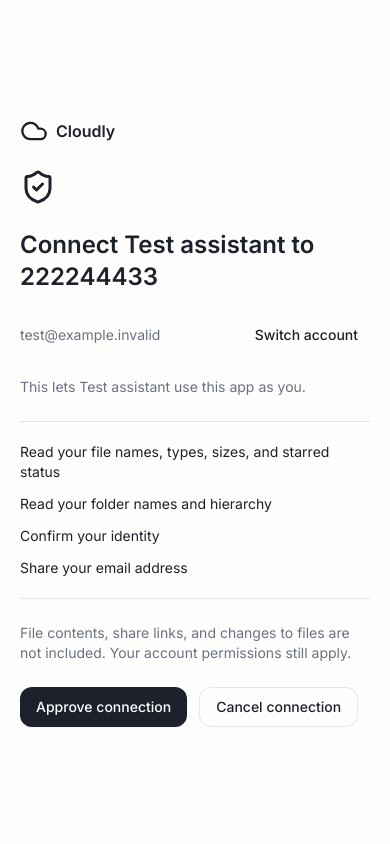
Scenario: OAuth consent decisions › submits denial for the exact authorization ID and reports failure
Click the button "Cancel connection" at (279, 707), box x1=199 y1=687 x2=358 y2=727
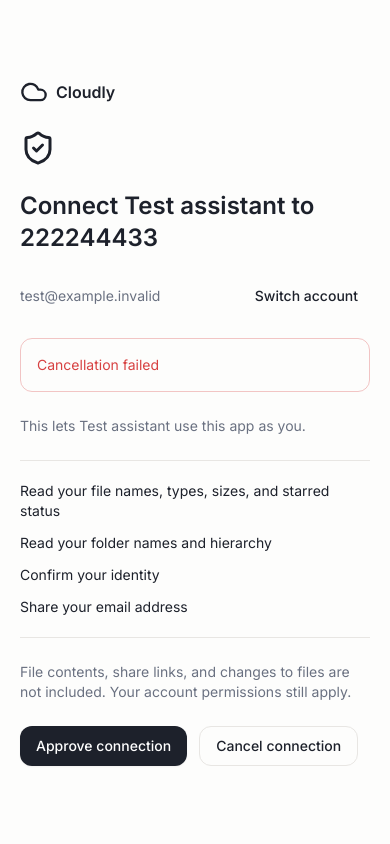
Check: the button "Cancel connection" is enabled, box x1=199 y1=726 x2=358 y2=766
Check: the message "Cancellation failed" is shown, box x1=20 y1=338 x2=370 y2=392
